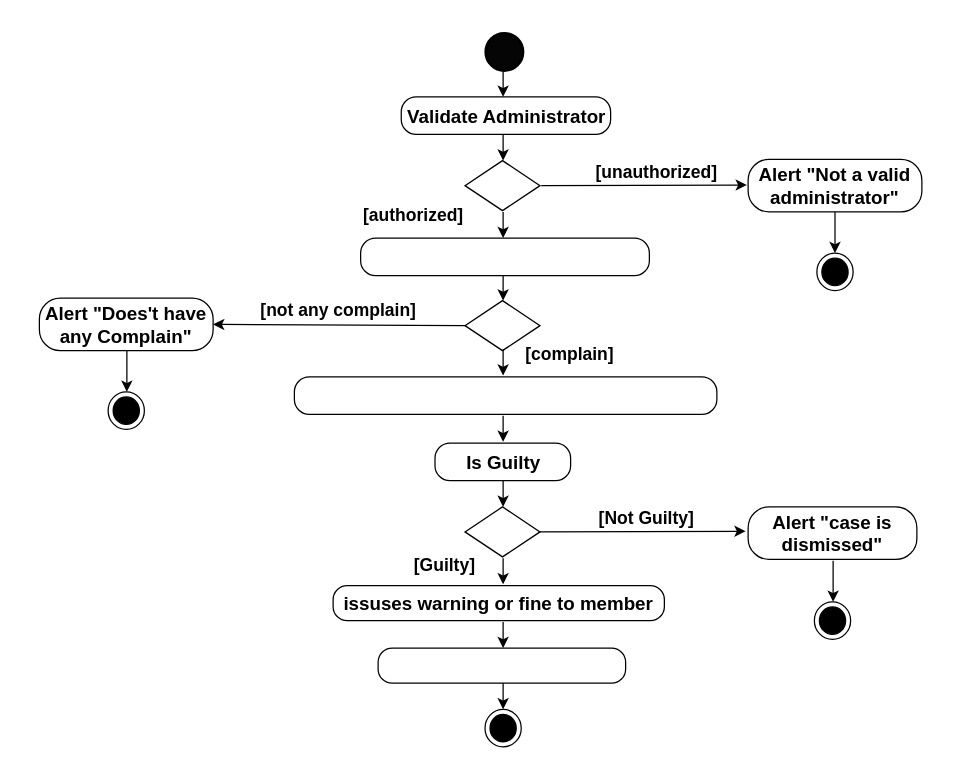
The diagram is 956 pixels wide and 781 high, and some of its shapes have lost their labels. Each missing label, with the centre of its shape:
Check report of rule violation: point 504,256
Conduct a meeting with concerned member: point 505,395
Update member status: point 501,665
